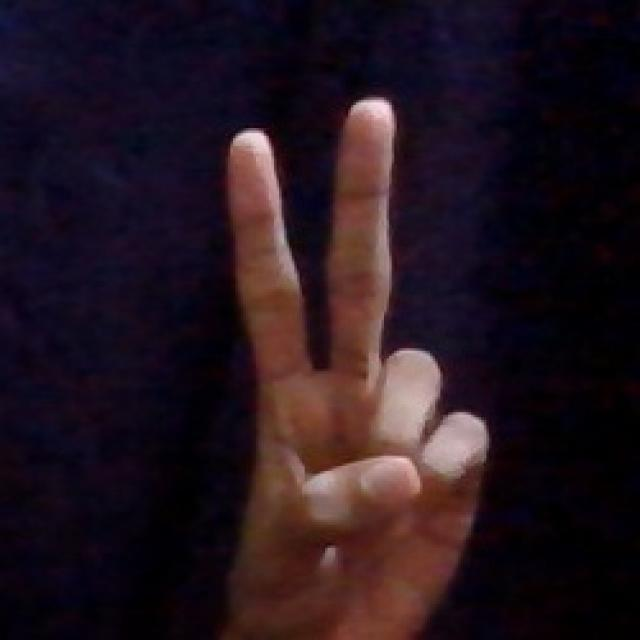Numeric-2: (230, 90, 488, 602)
